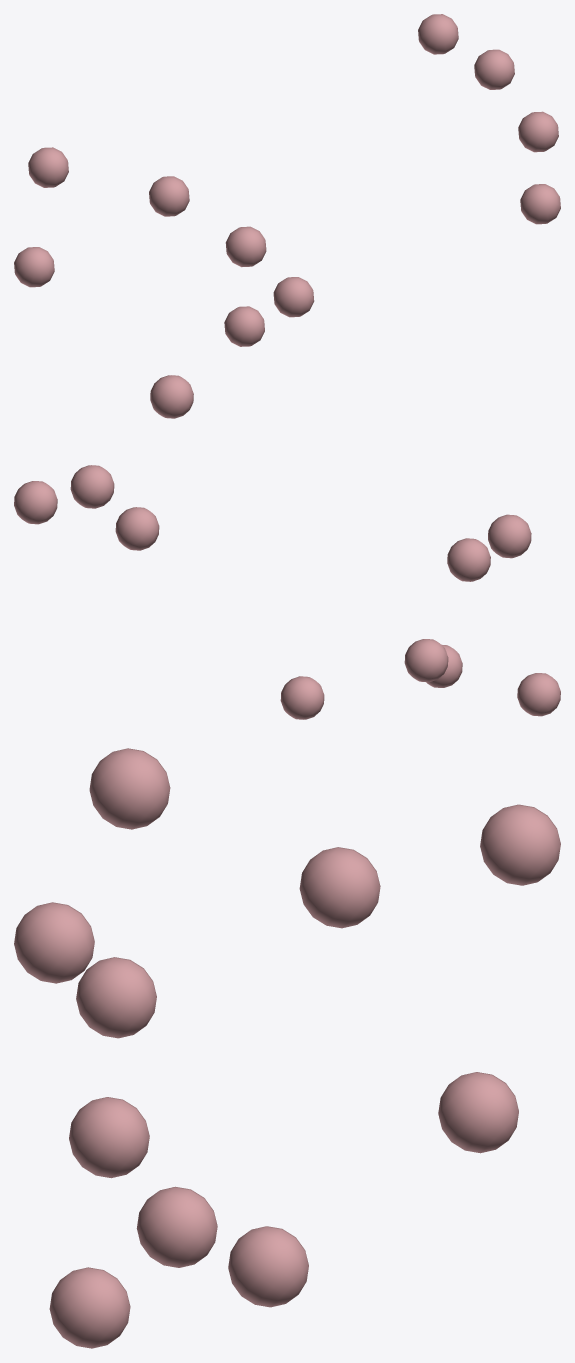
3 renders of one model, top to bottom at view 1: azimuth 30°, elevation 25°; view 2: azimuth 150°, elevation 25°; view 3: azimuth 270°, elevation 25°, orthographic. The views are drawn at different scales.
Visible parts, largest first — view 1: ZA_bde75d59fe6c5971; view 2: ZA_bde75d59fe6c5971; view 3: ZA_bde75d59fe6c5971.
Boxes of the visible parts, box(x1,y1,x2,y2) form: ZA_bde75d59fe6c5971: box(14, 14, 560, 346); ZA_bde75d59fe6c5971: box(14, 375, 560, 719); ZA_bde75d59fe6c5971: box(14, 748, 560, 1348).
Size of the model in its own units: 0.0358 by 0.0174 by 0.0173.
